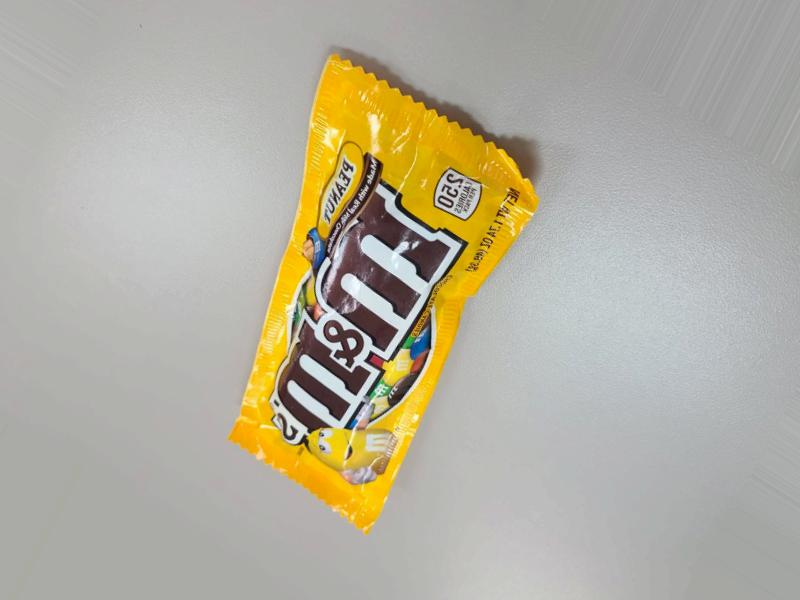m&m: (218, 85, 531, 567)
